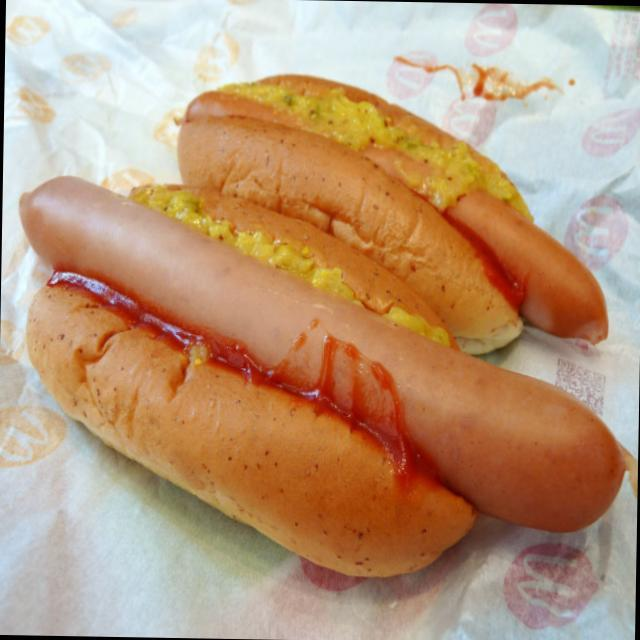Hot Dog: (0, 170, 620, 582)
